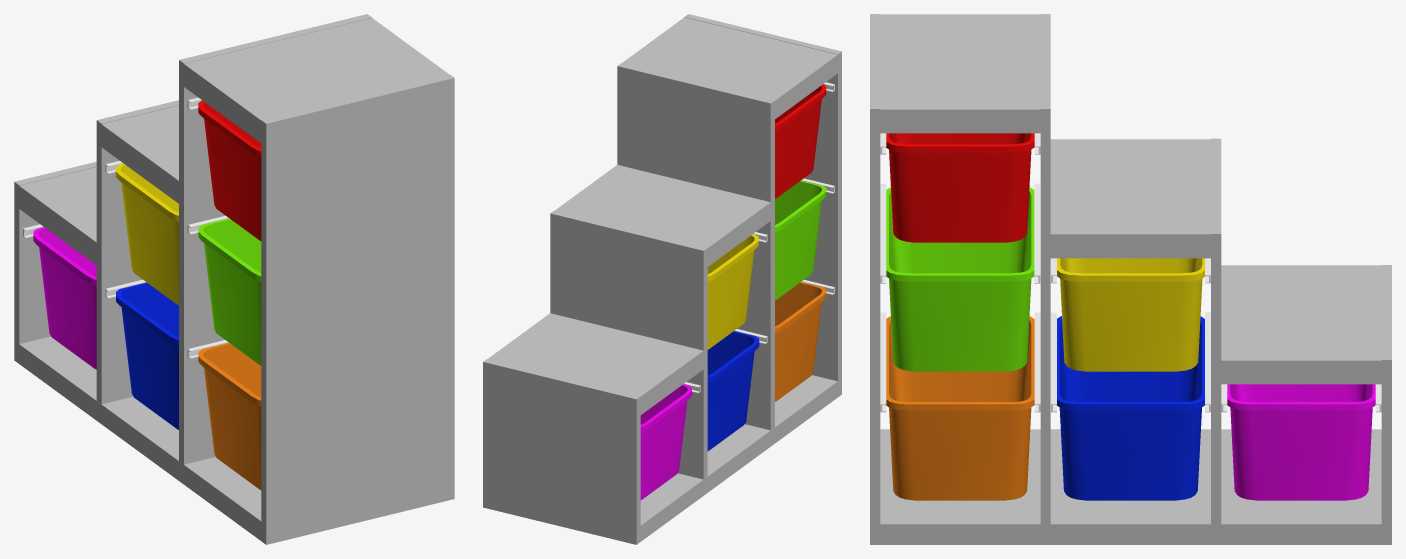
File: Cabinet.fbx
3 views of the same model, side by side, from view 1: azimuth 30°, elevation 25°; view 2: azimuth 150°, elevation 25°; view 3: azimuth 270°, elevation 25° (orthographic). The views are drawn at different scales.
Visible parts, largest first — view 1: Cabinet; view 2: Cabinet; view 3: Cabinet.
Boxes of the visible parts, x1,y1,x2,y2 form: Cabinet: (14,14,454,544); Cabinet: (483,14,841,544); Cabinet: (870,14,1391,544).
Size of the model in its own units: 440 by 940 by 1020.
